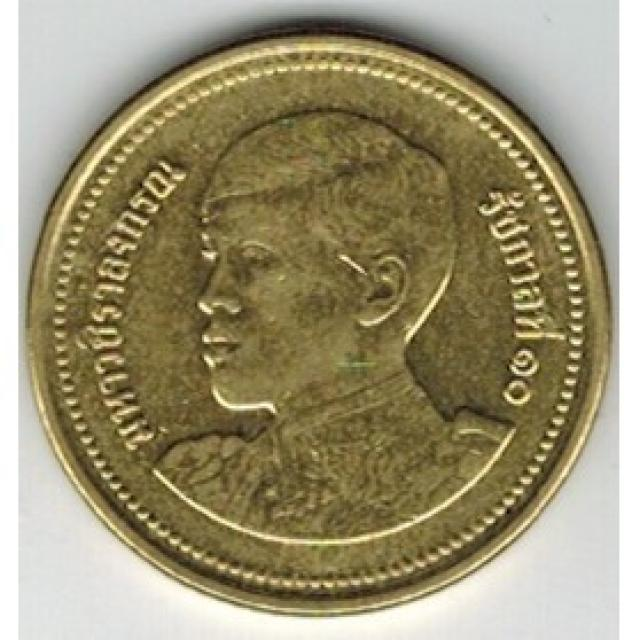2 Bath: (18, 20, 619, 617)
